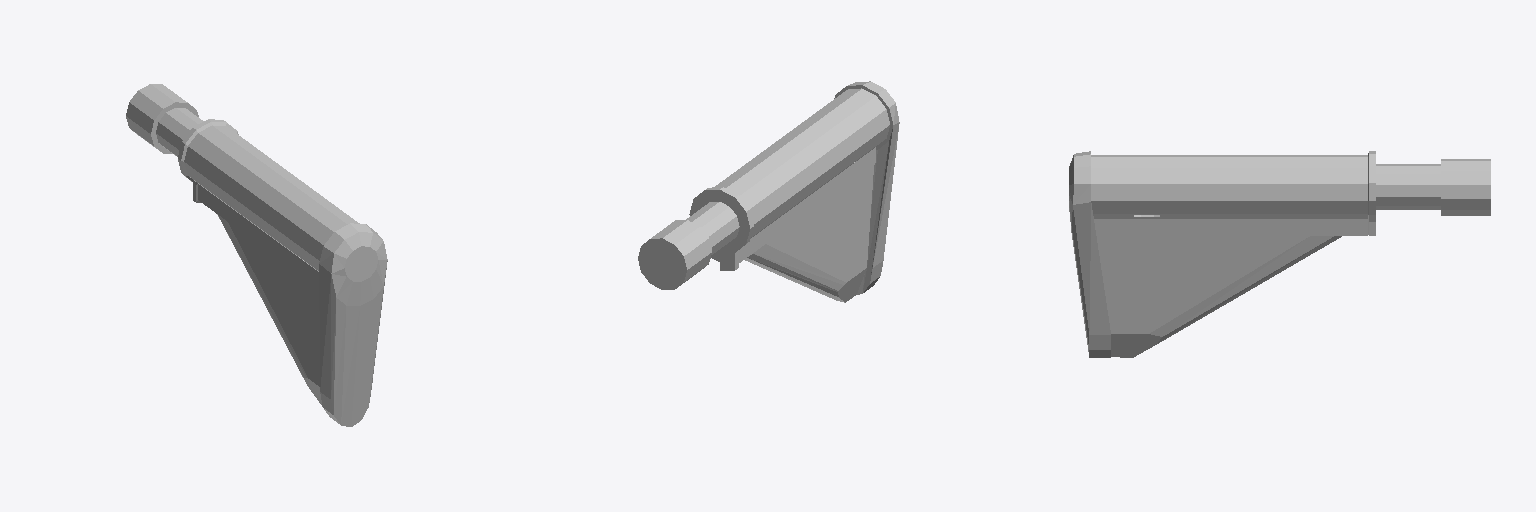
File: Stock3.obj
3 views of the same model, side by side, from view 1: azimuth 30°, elevation 25°; view 2: azimuth 150°, elevation 25°; view 3: azimuth 270°, elevation 25° (orthographic).
Visible parts, largest first — view 1: Cylinder.037; view 2: Cylinder.037; view 3: Cylinder.037.
Part boxes in pixels (x1,y1,x2,y2): Cylinder.037: (126, 84, 387, 426); Cylinder.037: (638, 81, 899, 302); Cylinder.037: (1069, 151, 1490, 357).
Size of the model in its own units: 0.1434 by 0.4474 by 0.8415.